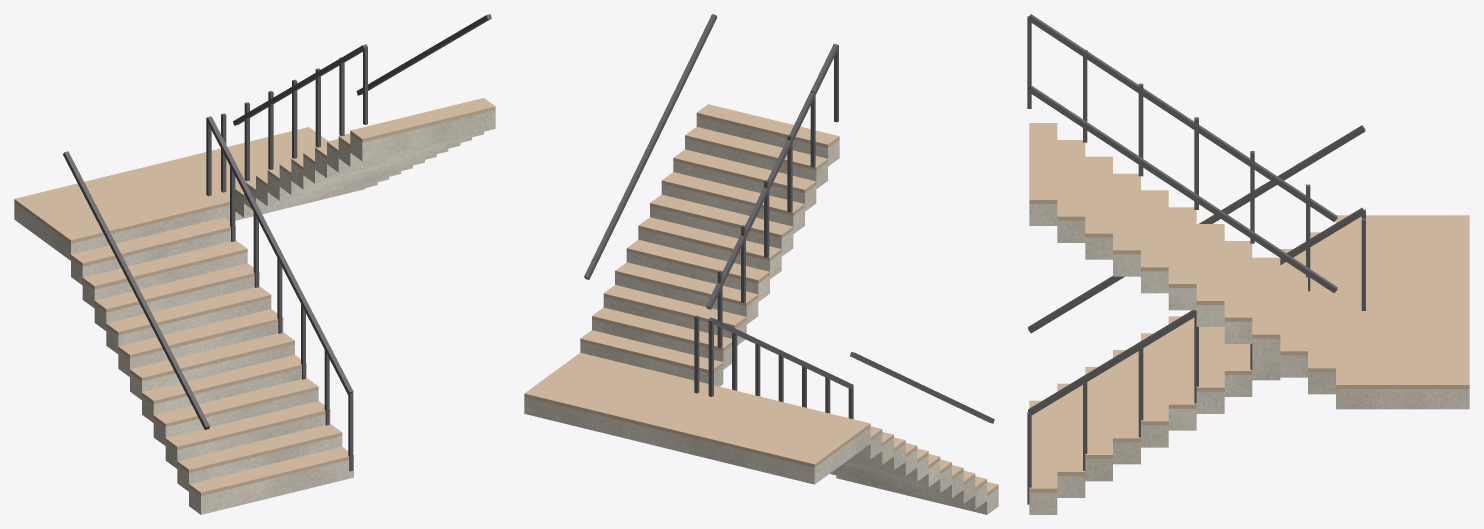
The model's file is stairs_u_4m_192_168.glb.
3 views of the same model, side by side, from view 1: azimuth 30°, elevation 25°; view 2: azimuth 150°, elevation 25°; view 3: azimuth 270°, elevation 25° (orthographic). The views are drawn at different scales.
Visible parts, largest first — view 1: stairs_u_4m_192_168_floor, stairs_u_4m_192_168_plaster, stairs_u_4m_192_168_iron; view 2: stairs_u_4m_192_168_floor, stairs_u_4m_192_168_plaster, stairs_u_4m_192_168_iron; view 3: stairs_u_4m_192_168_floor, stairs_u_4m_192_168_plaster, stairs_u_4m_192_168_iron.
Boxes of the visible parts, x1=… form: stairs_u_4m_192_168_floor: x1=14, y1=98, x2=495, y2=495; stairs_u_4m_192_168_plaster: x1=14, y1=110, x2=495, y2=514; stairs_u_4m_192_168_iron: x1=63, y1=14, x2=491, y2=471; stairs_u_4m_192_168_floor: x1=524, y1=104, x2=998, y2=495; stairs_u_4m_192_168_plaster: x1=524, y1=116, x2=998, y2=514; stairs_u_4m_192_168_iron: x1=584, y1=14, x2=994, y2=423; stairs_u_4m_192_168_floor: x1=1029, y1=123, x2=1469, y2=492; stairs_u_4m_192_168_plaster: x1=1029, y1=204, x2=1469, y2=514; stairs_u_4m_192_168_iron: x1=1027, y1=14, x2=1365, y2=504.
Bounding box in the file's own units: 3.6 × 5.01 × 3.97.
Materials: 3 (1 with a texture image).
